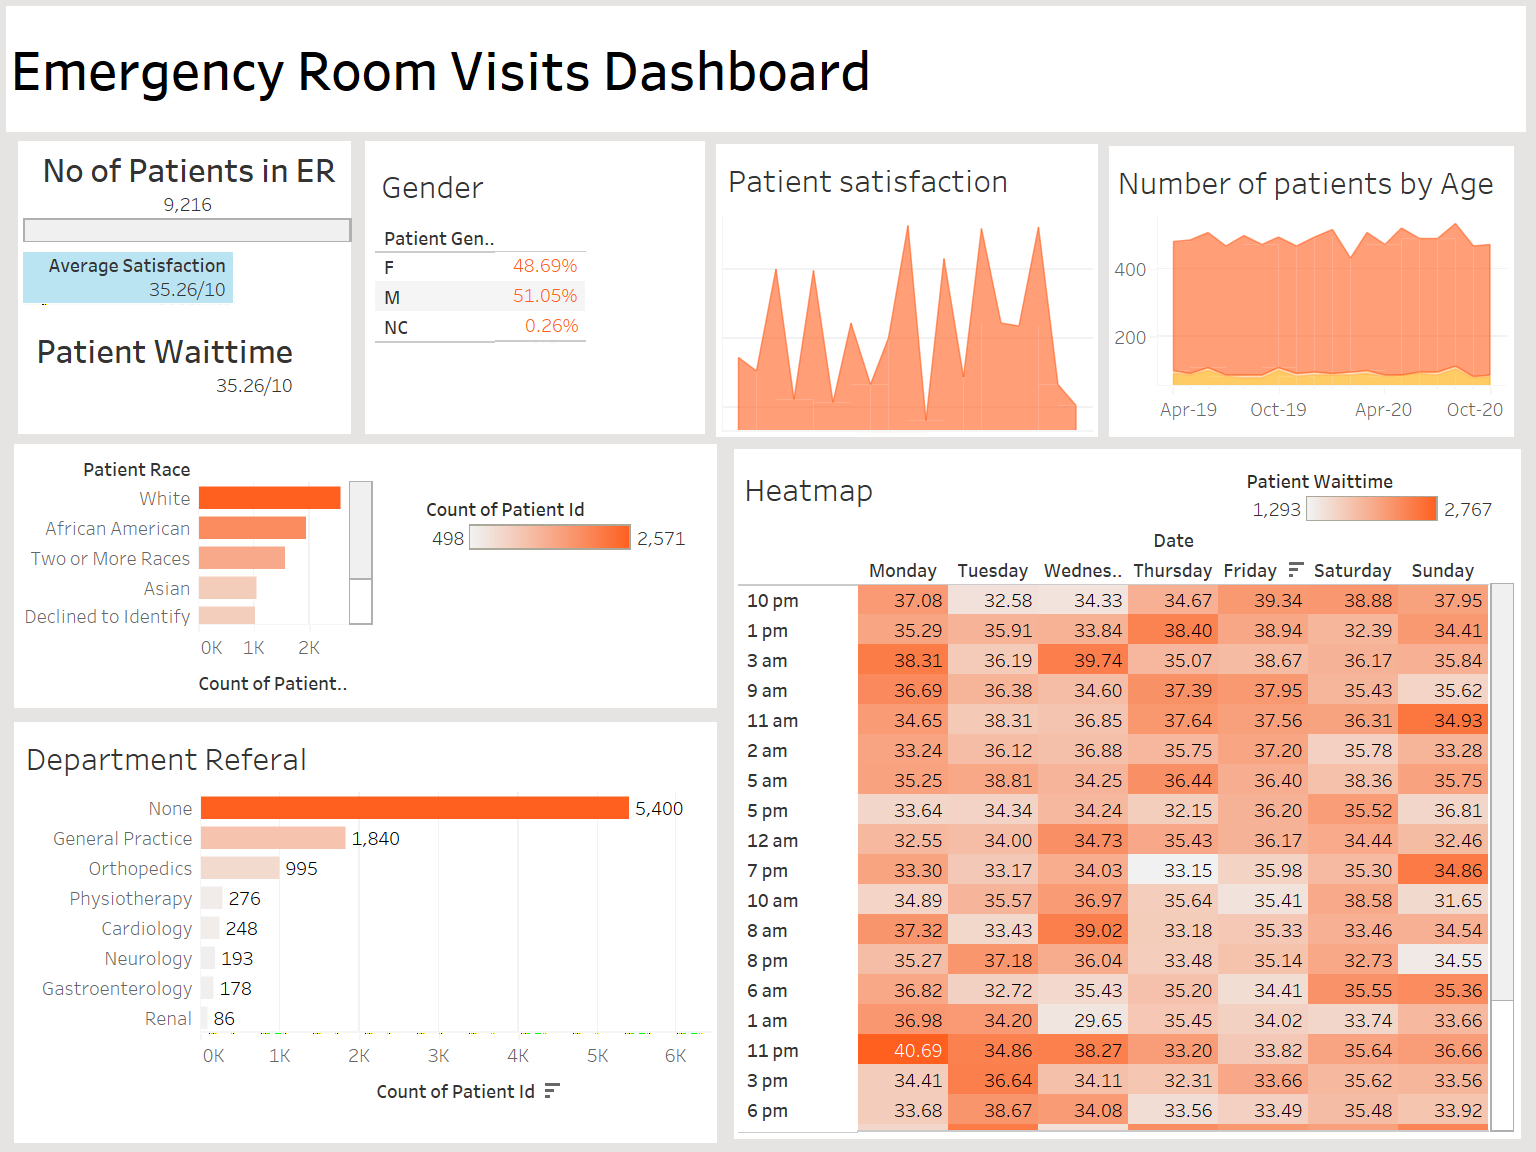

The dashboard page shown, as its layout file describes it:
{"tool":"tableau","page":{"name":"Dashboard 1","canvas":[1024,768],"ordinal":0},"visuals":[{"type":"legend","title":"Department Referal","param":"[federated.06x8mxi0fjm45j1cx86hm0m7p9ge].[cnt:department_referral:qk]","box":[0,0,1024,65]},{"type":"text","box":[4,4,1013,84]},{"type":"worksheet","title":"Patient satisfaction","mark":"Area","rows":["patient_waittime"],"cols":["date"],"box":[477,96,255,195]},{"type":"worksheet","title":"No of patients","mark":"Automatic","box":[16,99,218,76]},{"type":"worksheet","title":"Wait time average","mark":"Area","rows":["patient_waittime"],"cols":["date"],"box":[742,102,263,181]},{"type":"worksheet","title":"Gender","mark":"Automatic","rows":["patient_gender"],"box":[250,104,216,174]},{"type":"worksheet","title":"average satisfaction","mark":"Automatic","box":[15,168,211,48]},{"type":"worksheet","title":"average waittime","mark":"Automatic","box":[20,220,202,68]},{"type":"worksheet","title":"Patient Race","mark":"Automatic","rows":["patient_race"],"cols":["patient_id"],"box":[12,301,237,170]},{"type":"worksheet","title":"Heatmap","mark":"Square","rows":["date"],"cols":["date"],"box":[492,306,520,449]},{"type":"legend","title":"Heatmap","param":"[federated.06x8mxi0fjm45j1cx86hm0m7p9ge].[sum:patient_waittime:qk]","box":[831,308,169,53]},{"type":"legend","title":"Patient Race","param":"[federated.06x8mxi0fjm45j1cx86hm0m7p9ge].[cnt:patient_id:qk]","box":[284,327,178,51]},{"type":"worksheet","title":"Department Referal","mark":"Automatic","rows":["department_referral"],"cols":["patient_id"],"box":[9,481,469,281]}]}

Visuals, with their boxes in screenshot pixels (x1, y1, x2, y2), scaled from the page's 1024x768 canvas onto the 1536x1152 screenshot:
"Department Referal" legend: box(0, 0, 1535, 98)
text: box(6, 6, 1526, 132)
"Patient satisfaction" worksheet (Area marks): box(716, 144, 1098, 436)
"No of patients" worksheet: box(24, 148, 351, 262)
"Wait time average" worksheet (Area marks): box(1113, 153, 1508, 424)
"Gender" worksheet: box(375, 156, 699, 417)
"average satisfaction" worksheet: box(22, 252, 339, 324)
"average waittime" worksheet: box(30, 330, 333, 432)
"Patient Race" worksheet: box(18, 452, 374, 706)
"Heatmap" worksheet (Square marks): box(738, 459, 1518, 1132)
"Heatmap" legend: box(1246, 462, 1500, 542)
"Patient Race" legend: box(426, 490, 693, 567)
"Department Referal" worksheet: box(14, 722, 717, 1143)
